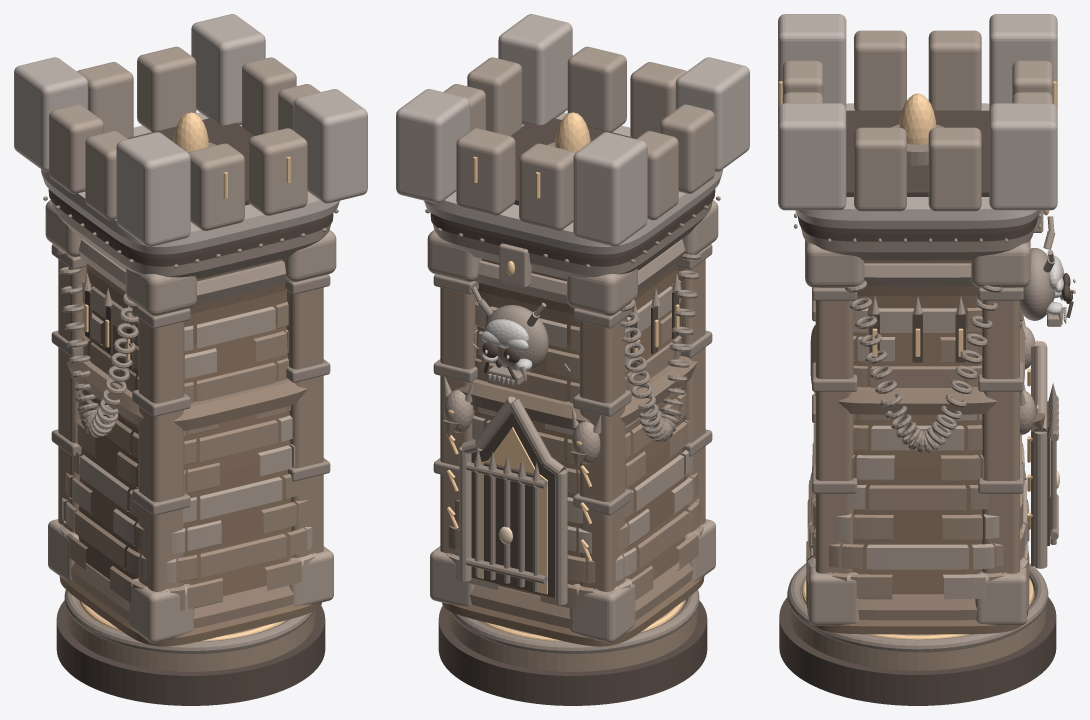
Rendered from tour_citadelle_damnee_orange.fbx.
3 views of the same model, side by side, from view 1: azimuth 30°, elevation 25°; view 2: azimuth 150°, elevation 25°; view 3: azimuth 270°, elevation 25° (orthographic). The views are drawn at different scales.
Visible parts, largest first — view 1: Corps_tour_pierre_massive, Socle_obsidienne_bas, Contrefort_principal_-1_1, CRENEAU_GOTHIQUE_01, Contrefort_principal_1_1, CRENEAU_GOTHIQUE_03, CRENEAU_GOTHIQUE_02, CORNICHE_haut, CRENEAU_GOTHIQUE_00, Linteau_renforce, Socle_pierre_polie, CRENEAU_GOTHIQUE_07 (+46 smaller); view 2: Corps_tour_pierre_massive, Socle_obsidienne_bas, Contrefort_principal_-1_-1, CRENEAU_GOTHIQUE_00, CRENEAU_GOTHIQUE_02, CRENEAU_GOTHIQUE_03, CORNICHE_haut, CRENEAU_GOTHIQUE_01, Contrefort_principal_1_-1, Socle_pierre_polie, CRENEAU_GOTHIQUE_06, CRENEAU_GOTHIQUE_07 (+52 smaller); view 3: Corps_tour_pierre_massive, Socle_obsidienne_bas, Contrefort_principal_1_1, Contrefort_principal_1_-1, CRENEAU_GOTHIQUE_02, CRENEAU_GOTHIQUE_03, Socle_pierre_polie, CORNICHE_haut, CRENEAU_GOTHIQUE_09, CRENEAU_GOTHIQUE_11, CRENEAU_GOTHIQUE_00, CRENEAU_GOTHIQUE_01 (+47 smaller).
Boxes of the visible parts, x1,y1,x2,y2 form: Corps_tour_pierre_massive: (59, 259, 321, 646); Socle_obsidienne_bas: (56, 600, 325, 705); Contrefort_principal_-1_1: (138, 318, 184, 591); CRENEAU_GOTHIQUE_01: (116, 132, 190, 246); Contrefort_principal_1_1: (286, 287, 323, 557); CRENEAU_GOTHIQUE_03: (293, 89, 367, 203); CRENEAU_GOTHIQUE_02: (191, 14, 265, 125); CORNICHE_haut: (41, 112, 339, 254); CRENEAU_GOTHIQUE_00: (14, 57, 88, 171); Linteau_renforce: (66, 360, 307, 430); Socle_pierre_polie: (66, 599, 315, 671); CRENEAU_GOTHIQUE_07: (248, 128, 307, 215); Corps_tour_pierre_massive: (442, 259, 704, 646); Socle_obsidienne_bas: (438, 600, 707, 705); Contrefort_principal_-1_-1: (579, 318, 625, 591); CRENEAU_GOTHIQUE_00: (573, 132, 647, 246); CRENEAU_GOTHIQUE_02: (396, 89, 470, 203); CRENEAU_GOTHIQUE_03: (498, 14, 572, 125); CORNICHE_haut: (424, 112, 722, 254); CRENEAU_GOTHIQUE_01: (675, 57, 749, 171); Contrefort_principal_1_-1: (440, 287, 477, 556); Socle_pierre_polie: (448, 599, 697, 671); CRENEAU_GOTHIQUE_06: (456, 128, 515, 215); CRENEAU_GOTHIQUE_07: (567, 46, 626, 132); Corps_tour_pierre_massive: (806, 260, 1029, 634); Socle_obsidienne_bas: (779, 597, 1056, 705); Contrefort_principal_1_1: (815, 287, 853, 573); Contrefort_principal_1_-1: (982, 287, 1019, 573); CRENEAU_GOTHIQUE_02: (989, 103, 1057, 210); CRENEAU_GOTHIQUE_03: (778, 103, 846, 210); Socle_pierre_polie: (789, 589, 1046, 670); CORNICHE_haut: (795, 103, 1040, 228); CRENEAU_GOTHIQUE_09: (928, 127, 981, 211); CRENEAU_GOTHIQUE_11: (854, 127, 906, 211); CRENEAU_GOTHIQUE_00: (989, 14, 1057, 109); CRENEAU_GOTHIQUE_01: (778, 14, 846, 109).
Bounding box in the file's own units: 69 × 159 × 74.15.
